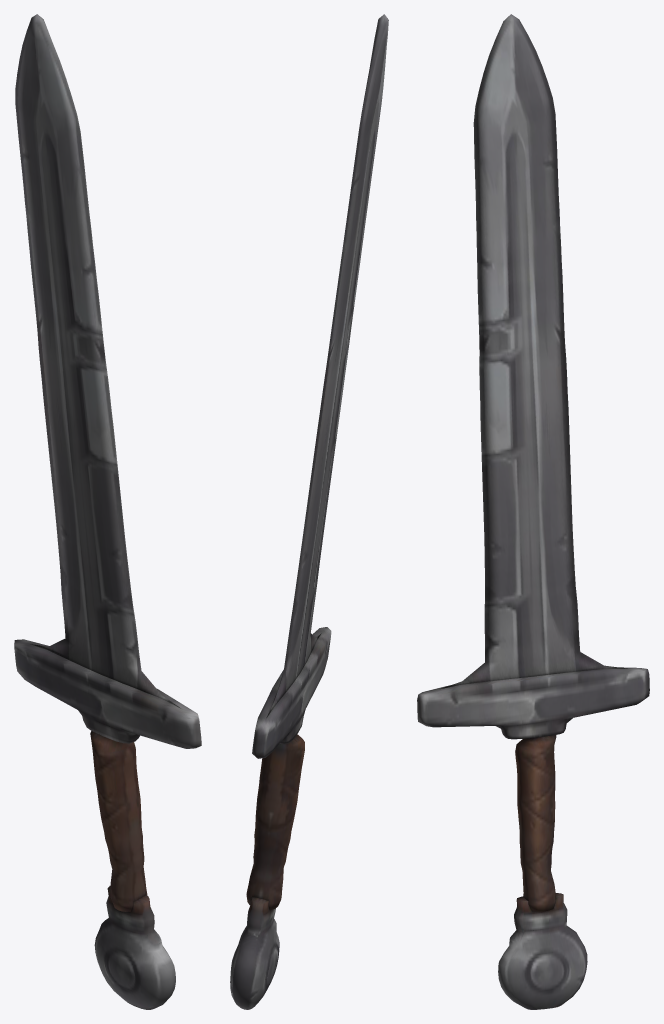
File: sword.glb
3 views of the same model, side by side, from view 1: azimuth 30°, elevation 25°; view 2: azimuth 150°, elevation 25°; view 3: azimuth 270°, elevation 25° (orthographic). The views are drawn at different scales.
Visible parts, largest first — view 1: sword_bar1; view 2: sword_bar1; view 3: sword_bar1.
Boxes of the visible parts, x1=… form: sword_bar1: x1=14, y1=14, x2=201, y2=1009; sword_bar1: x1=230, y1=14, x2=388, y2=1009; sword_bar1: x1=417, y1=14, x2=649, y2=1009.
Bounding box in the file's own units: 0.1344 × 0.9371 × 0.2102.
Materials: 1 (1 with a texture image).
